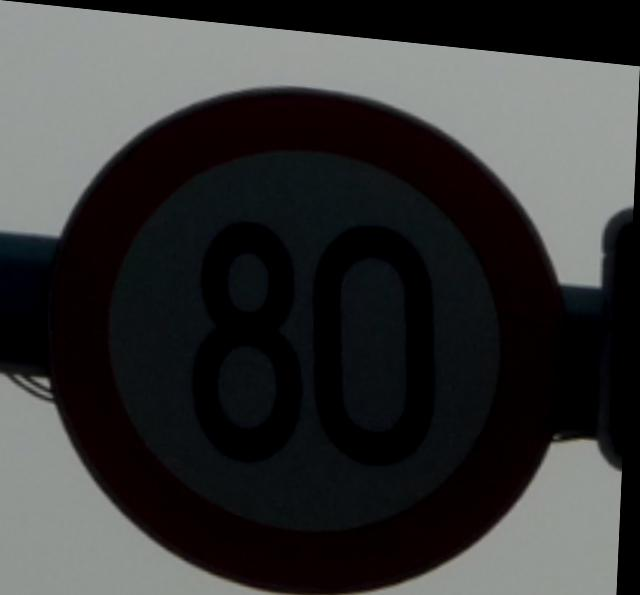limit80: (34, 45, 593, 595)
